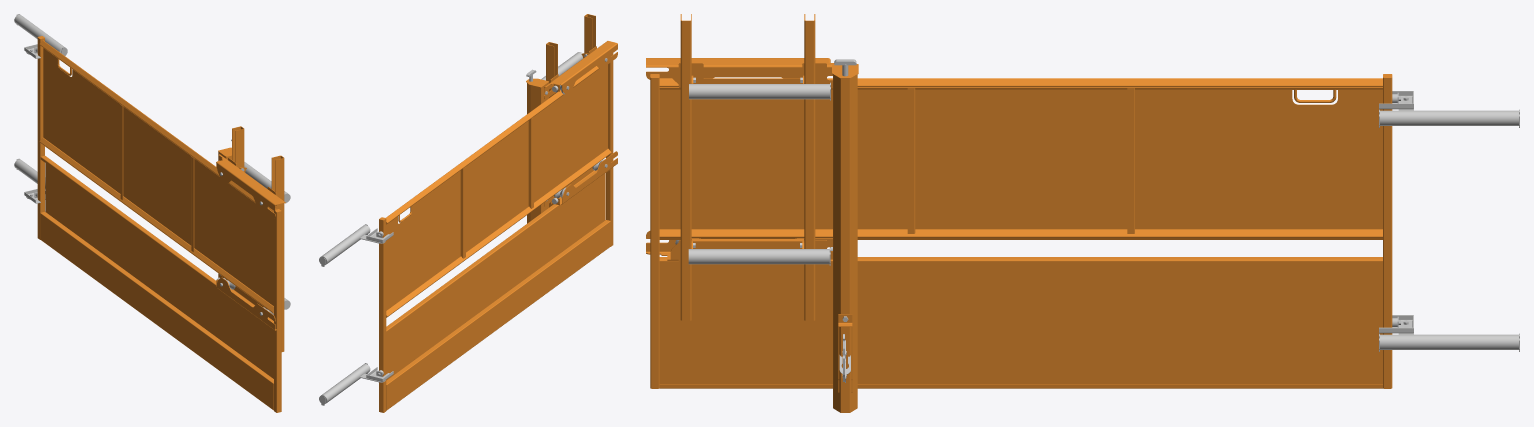
Rendered from sliding-gate.glb.
3 renders of one model, left to right at view 1: azimuth 30°, elevation 25°; view 2: azimuth 150°, elevation 25°; view 3: azimuth 270°, elevation 25°, orthographic. The views are drawn at different scales.
Visible parts, largest first — view 1: 3DGeom-1, 3DGeom-2, object 5; view 2: 3DGeom-1, object 5, 3DGeom-2, 3DGeom-3; view 3: 3DGeom-1, 3DGeom-2, object 5, 3DGeom-3.
Boxes of the visible parts, x1,y1,x2,y2 form: 3DGeom-1: [37, 36, 285, 412]; 3DGeom-2: [57, 58, 284, 351]; object 5: [14, 14, 290, 309]; 3DGeom-1: [379, 41, 617, 412]; object 5: [319, 52, 583, 403]; 3DGeom-2: [398, 14, 595, 223]; 3DGeom-3: [320, 54, 607, 405]; 3DGeom-1: [646, 58, 1392, 392]; 3DGeom-2: [680, 14, 1336, 412]; object 5: [688, 84, 1518, 349]; 3DGeom-3: [675, 59, 1519, 382].
Size of the model in its own units: 0.2957 by 1.38 by 2.83.
